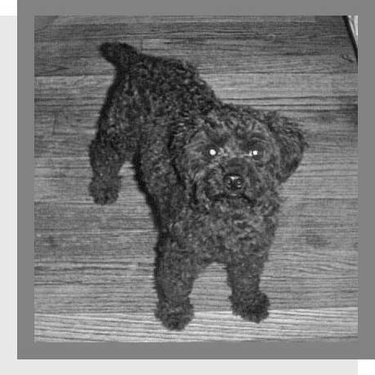dog: (82, 33, 309, 332)
